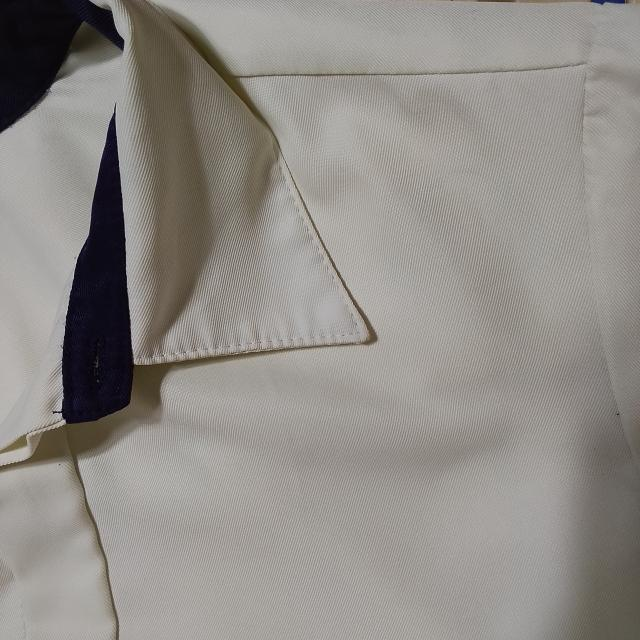education_male_uniform: (34, 70, 634, 636)
